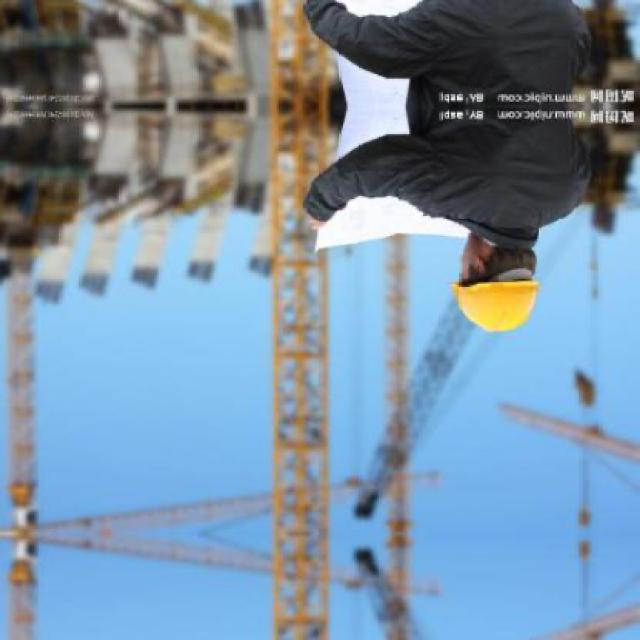con casco: (454, 208, 544, 344)
